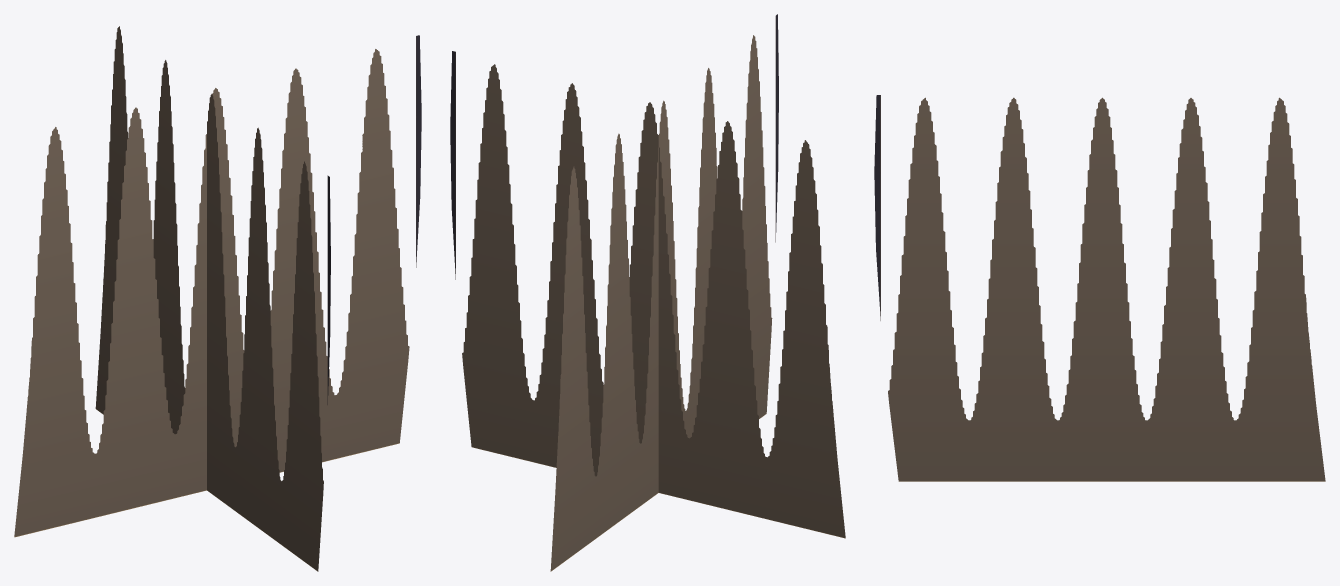
The model's file is grass_tuft_a.glb.
3 views of the same model, side by side, from view 1: azimuth 30°, elevation 25°; view 2: azimuth 150°, elevation 25°; view 3: azimuth 270°, elevation 25° (orthographic). The views are drawn at different scales.
Parts seen in each view (by area): view 1: lod0; view 2: lod0; view 3: lod0.
Boxes of the visible parts, box(x1,y1,x2,y2) form: lod0: box(14, 26, 421, 571); lod0: box(450, 14, 845, 571); lod0: box(874, 95, 1325, 481).
Bounding box in the file's own units: 0.74 × 0.7 × 0.74.
Materials: 1 (1 with a texture image).
